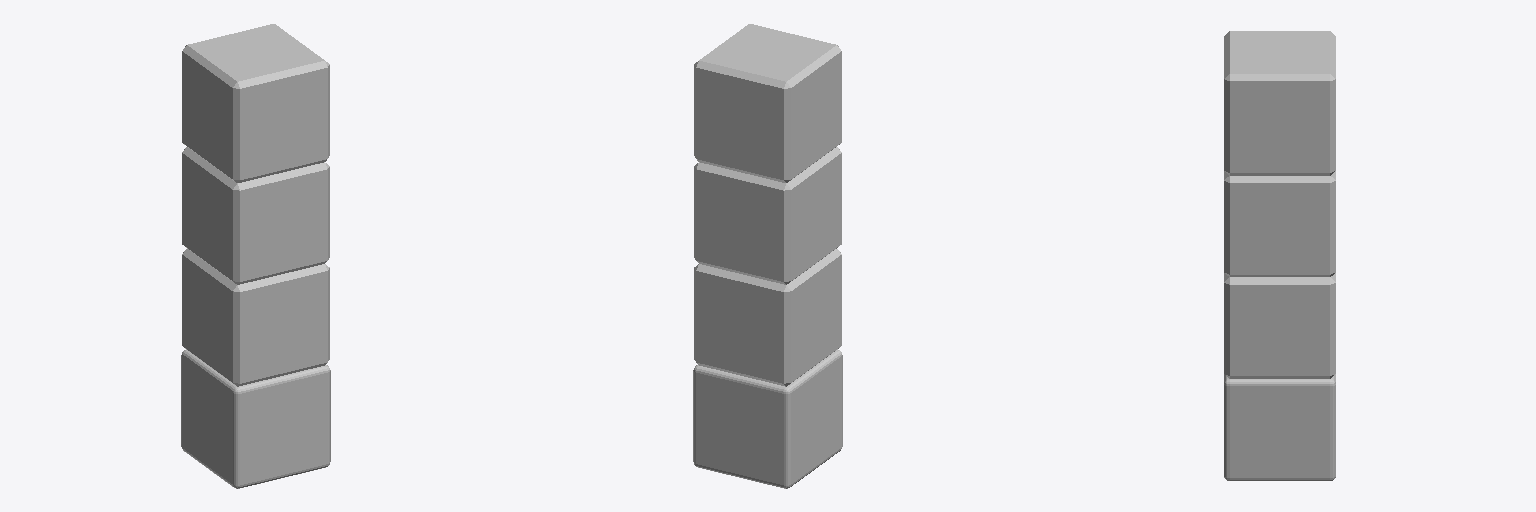
File: fig1.obj
3 views of the same model, side by side, from view 1: azimuth 30°, elevation 25°; view 2: azimuth 150°, elevation 25°; view 3: azimuth 270°, elevation 25° (orthographic).
Visible parts, largest first — view 1: Cube.003_Cube.005, Cube, Cube.001_Cube.003, Cube.002_Cube.004; view 2: Cube.003_Cube.005, Cube, Cube.001_Cube.003, Cube.002_Cube.004; view 3: Cube.003_Cube.005, Cube, Cube.001_Cube.003, Cube.002_Cube.004.
Boxes of the visible parts, box(x1,y1,x2,y2) form: Cube.003_Cube.005: box(182, 24, 329, 182); Cube: box(181, 349, 330, 488); Cube.001_Cube.003: box(182, 249, 329, 386); Cube.002_Cube.004: box(182, 147, 329, 284); Cube.003_Cube.005: box(694, 24, 841, 182); Cube: box(693, 349, 842, 488); Cube.001_Cube.003: box(694, 249, 841, 386); Cube.002_Cube.004: box(694, 147, 841, 284); Cube.003_Cube.005: box(1224, 31, 1335, 175); Cube: box(1224, 374, 1335, 480); Cube.001_Cube.003: box(1224, 273, 1335, 378); Cube.002_Cube.004: box(1224, 171, 1335, 276).
Size of the model in its own units: 2 by 8 by 2.